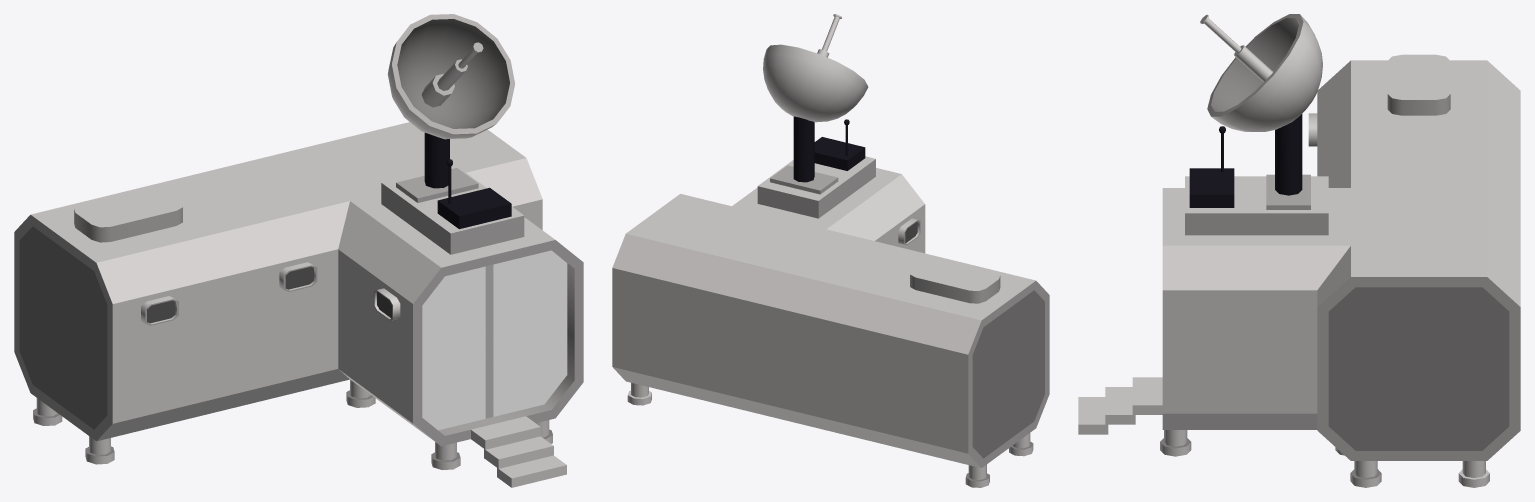
The model's file is house4.fbx.
The picture shows the model from 3 angles, left to right: view 1: azimuth 30°, elevation 25°; view 2: azimuth 150°, elevation 25°; view 3: azimuth 270°, elevation 25°; orthographic projection. The views are drawn at different scales.
Parts seen in each view (by area): view 1: house4; view 2: house4; view 3: house4.
Boxes of the visible parts, x1=… form: house4: x1=14, y1=14, x2=583, y2=487; house4: x1=612, y1=14, x2=1049, y2=487; house4: x1=1078, y1=14, x2=1520, y2=487.
Size of the model in its own units: 11.44 by 10.02 by 9.77.
